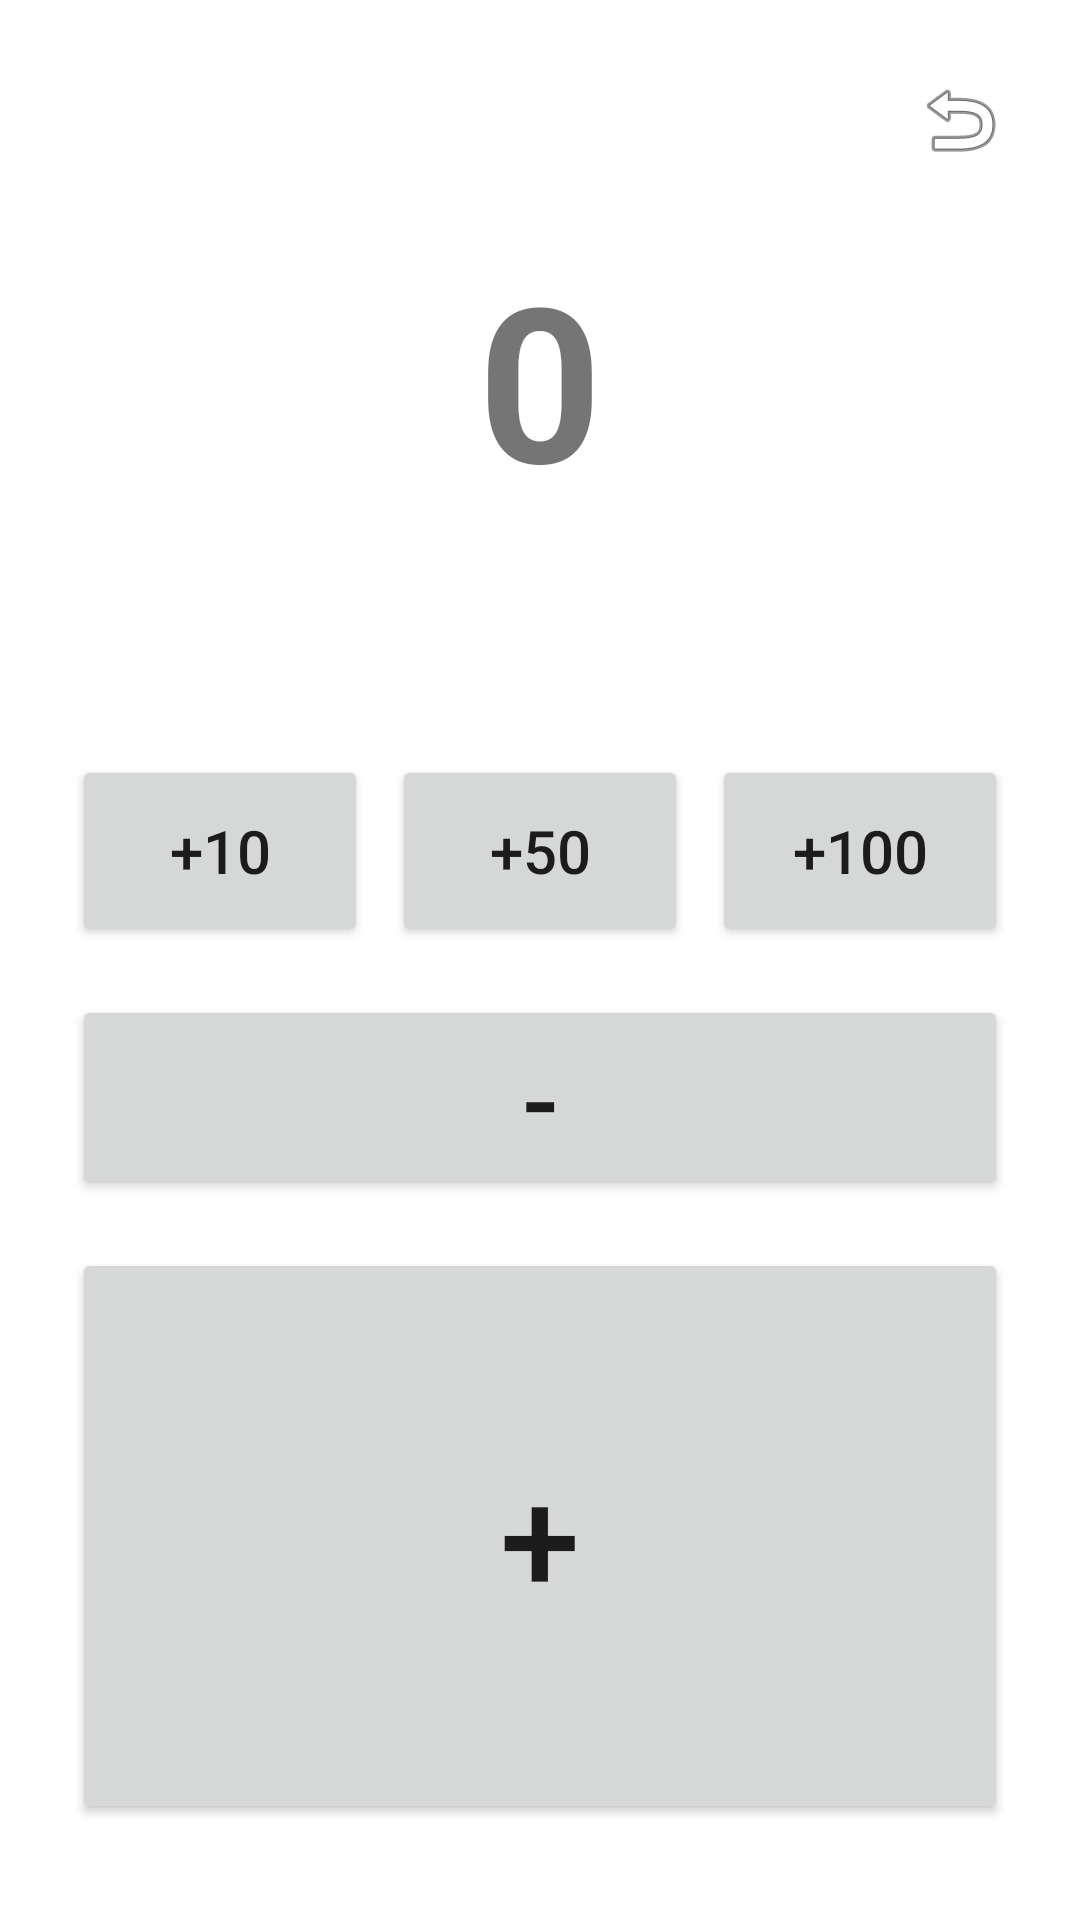

Icon bounding boxes for this 1080w x 1920h phone screenshot, format (x1, y1, x2, y2):
重置: (927, 89, 996, 152)
